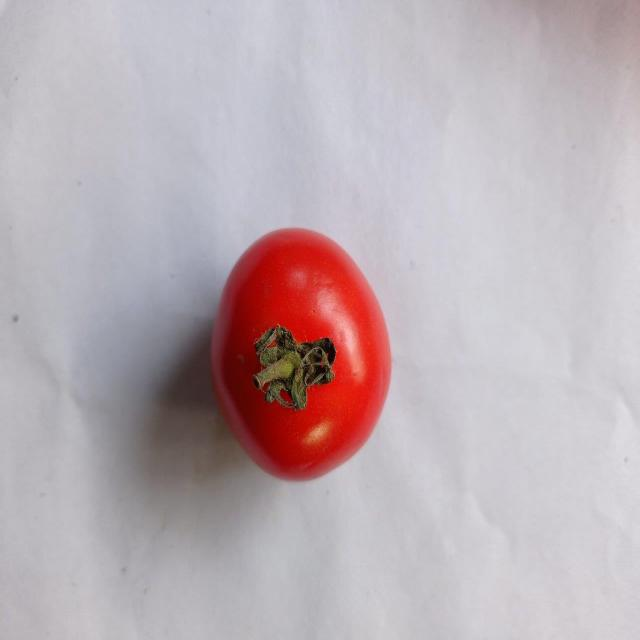Tomato: (206, 222, 396, 485)
